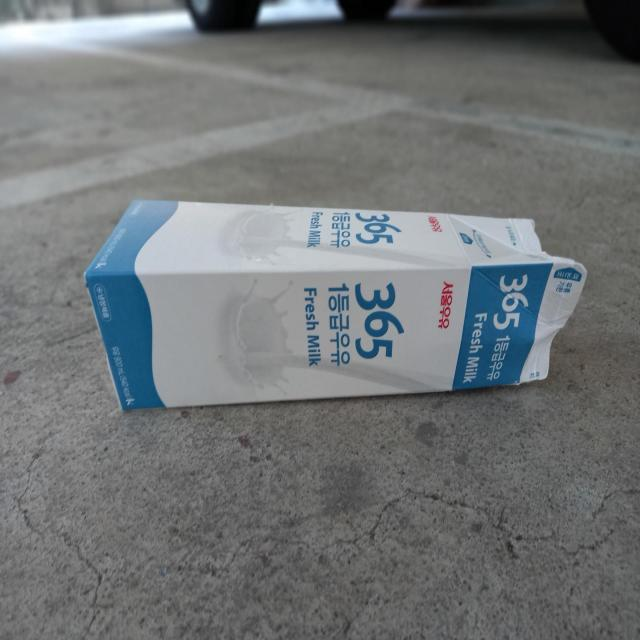paperpack: (85, 200, 587, 410)
